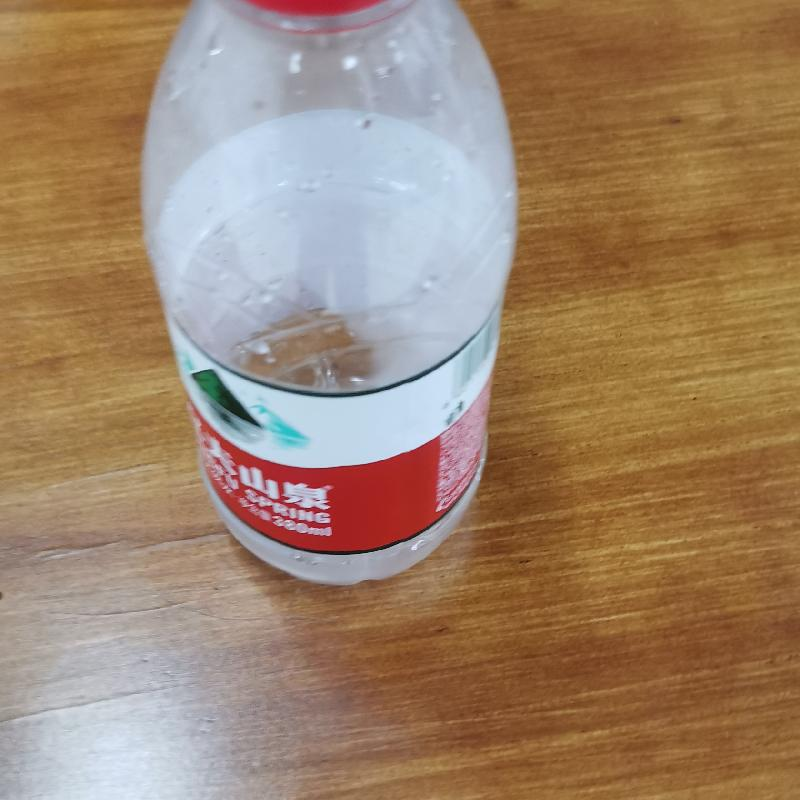bottles: (139, 0, 531, 597)
